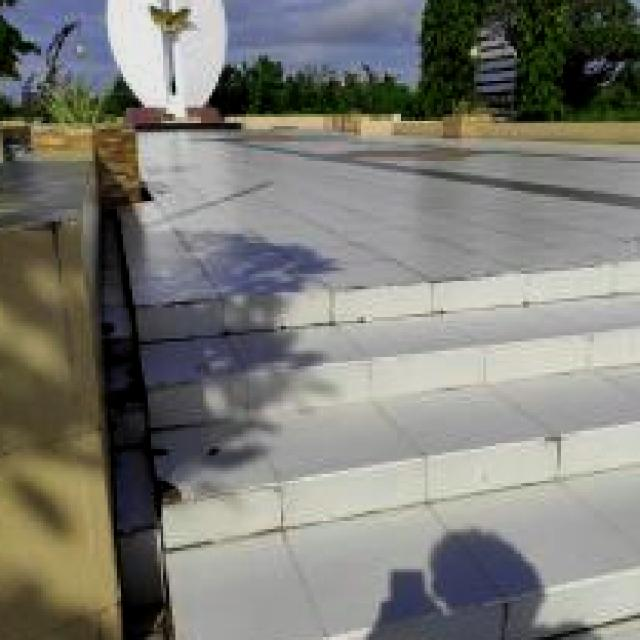upstair: (124, 275, 640, 640)
